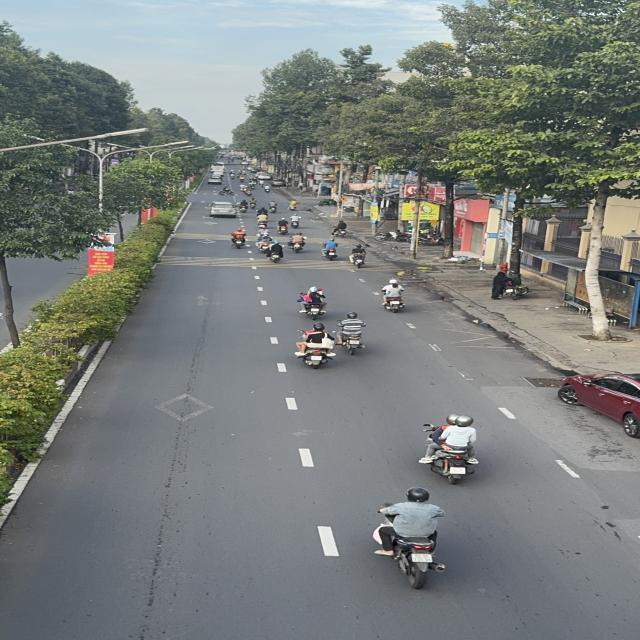car: (556, 366, 640, 442), (205, 199, 241, 219), (210, 160, 227, 174), (204, 175, 224, 185), (257, 172, 273, 180)
motobyte: (367, 484, 457, 598), (415, 411, 487, 485), (294, 321, 338, 370), (333, 309, 371, 357), (295, 284, 331, 321), (377, 278, 410, 314), (266, 239, 290, 265), (318, 236, 341, 262), (228, 226, 251, 249), (349, 243, 369, 269), (287, 230, 309, 253), (256, 233, 276, 254), (215, 184, 239, 198), (255, 225, 274, 242), (274, 216, 291, 235), (254, 212, 271, 228), (289, 212, 303, 229), (266, 198, 279, 215), (237, 198, 250, 214), (247, 194, 260, 210), (287, 198, 301, 212), (242, 184, 254, 197), (262, 183, 275, 194)
